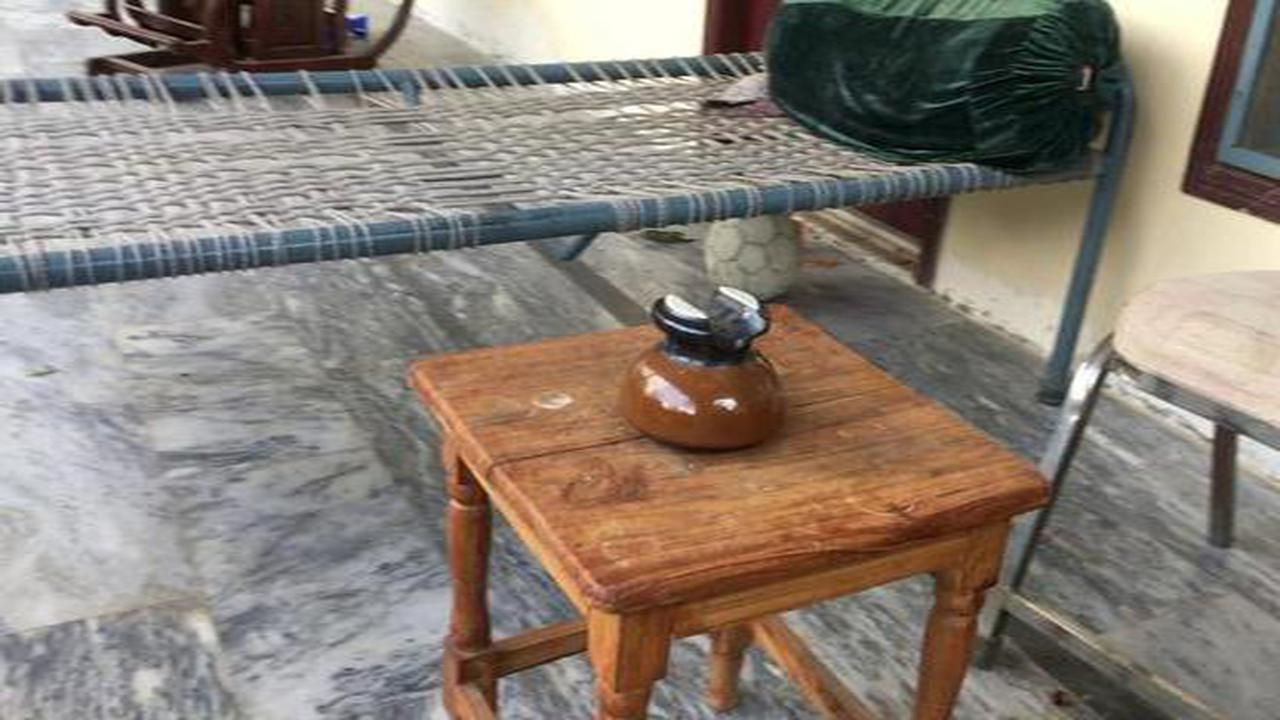insulator_pin: (613, 264, 804, 464)
